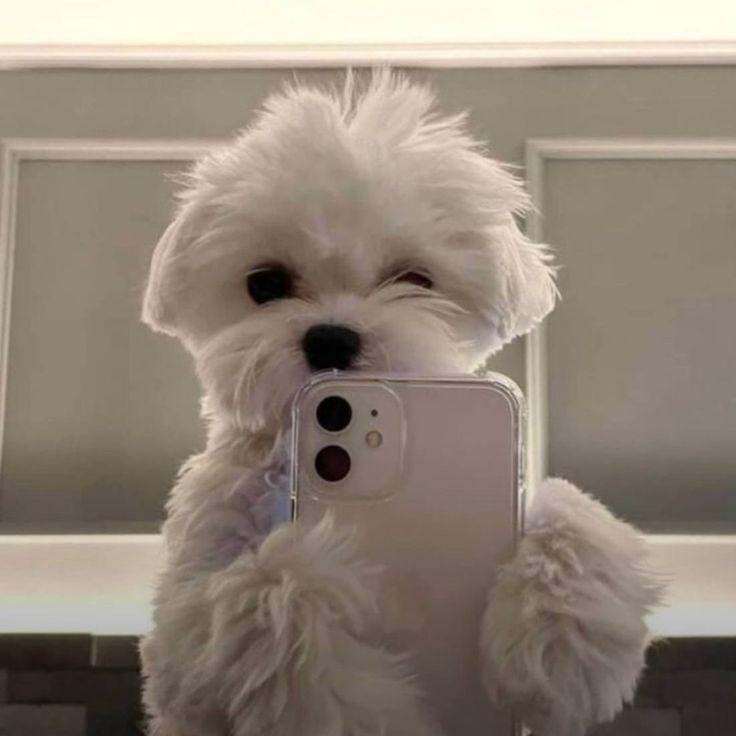puppy-dog: (135, 65, 676, 736)
